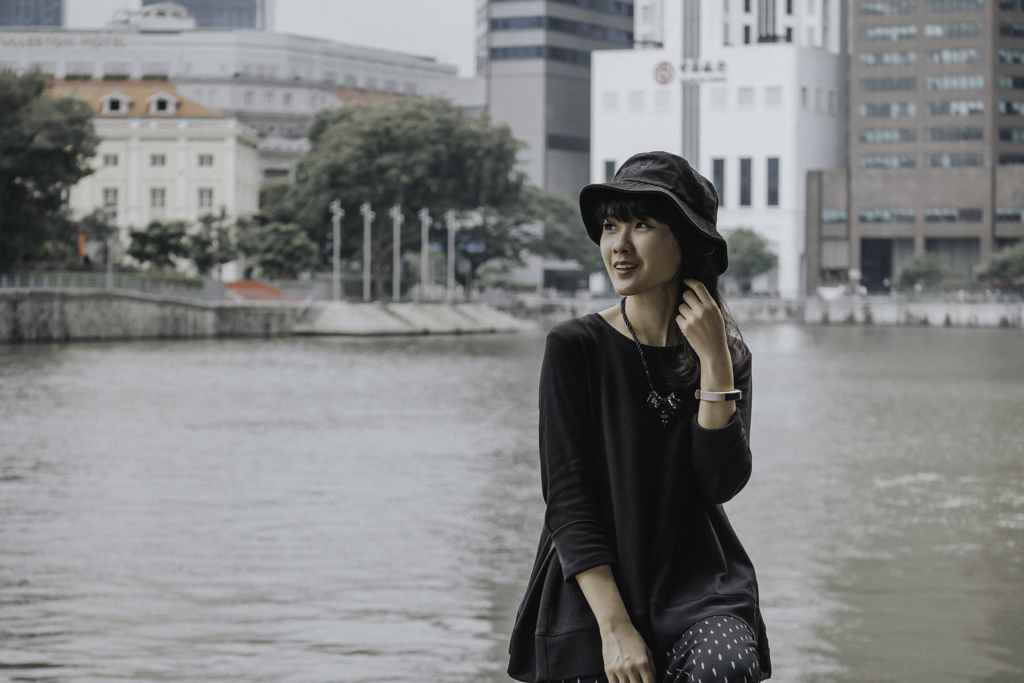people: (508, 155, 768, 683)
